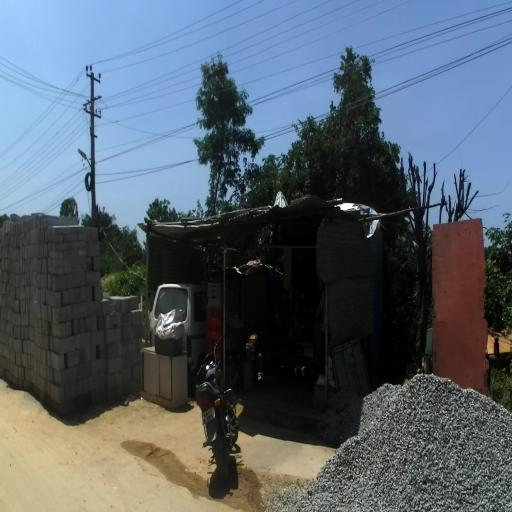street_light_0: (78, 148, 95, 172)
